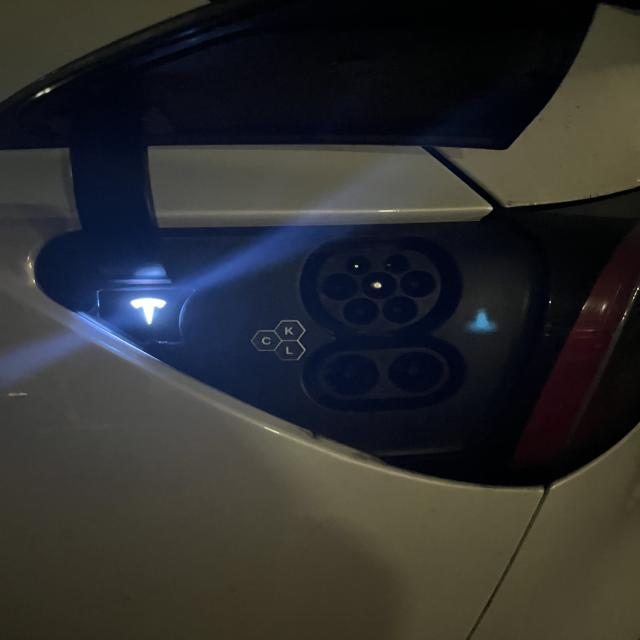inlet: (315, 250, 441, 331)
inlet-above-left: (345, 255, 371, 275)
inlet-above-right: (385, 254, 411, 273)
inlet-below-left: (343, 297, 379, 325)
inlet-below-right: (382, 296, 418, 324)
inlet-circle: (361, 271, 397, 299)
inlet-circle-left: (322, 273, 358, 301)
inlet-circle-right: (400, 270, 436, 298)
inlet-minus: (387, 352, 444, 393)
inlet-plus: (323, 356, 380, 396)
